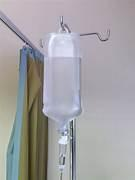Iv_Bottle: (43, 32, 80, 128)
